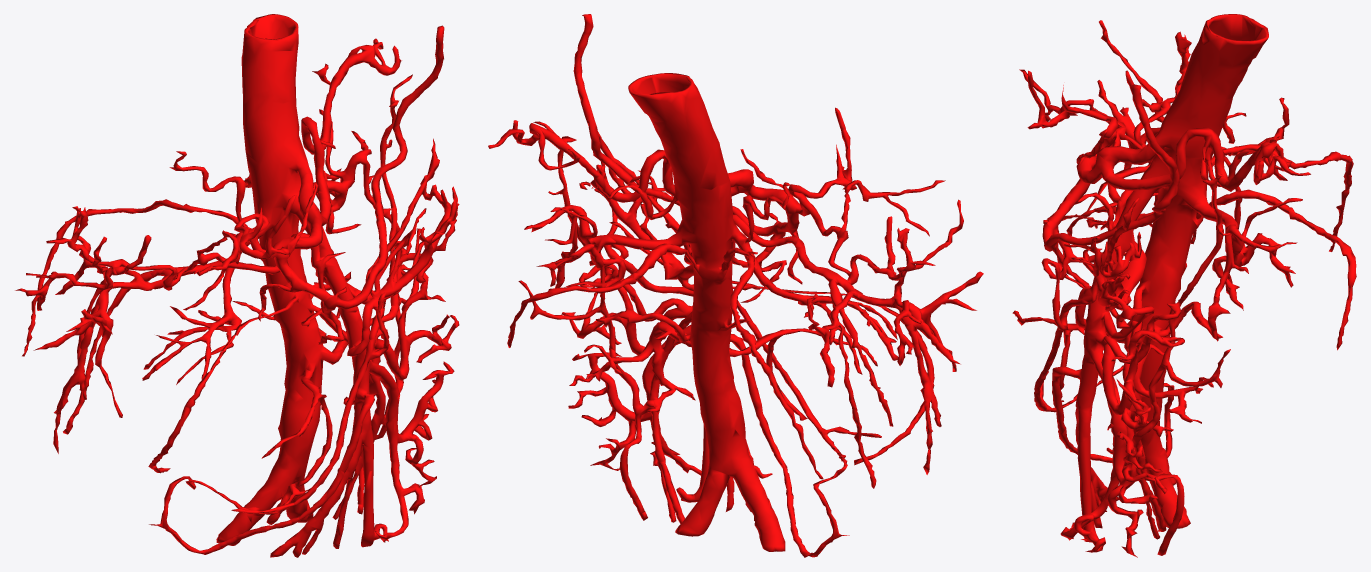
3 renders of one model, left to right at view 1: azimuth 30°, elevation 25°; view 2: azimuth 150°, elevation 25°; view 3: azimuth 270°, elevation 25°, orthographic. The views are drawn at different scales.
Visible parts, largest first — view 1: Polygonal_Model_3_Triangles_0; view 2: Polygonal_Model_3_Triangles_0; view 3: Polygonal_Model_3_Triangles_0.
Part boxes in pixels (box(x1,y1,x2,y2)): Polygonal_Model_3_Triangles_0: box(15, 14, 459, 557); Polygonal_Model_3_Triangles_0: box(488, 14, 983, 557); Polygonal_Model_3_Triangles_0: box(1012, 14, 1356, 557).
Bounding box in the file's own units: 7.86 × 8.65 × 5.34.
